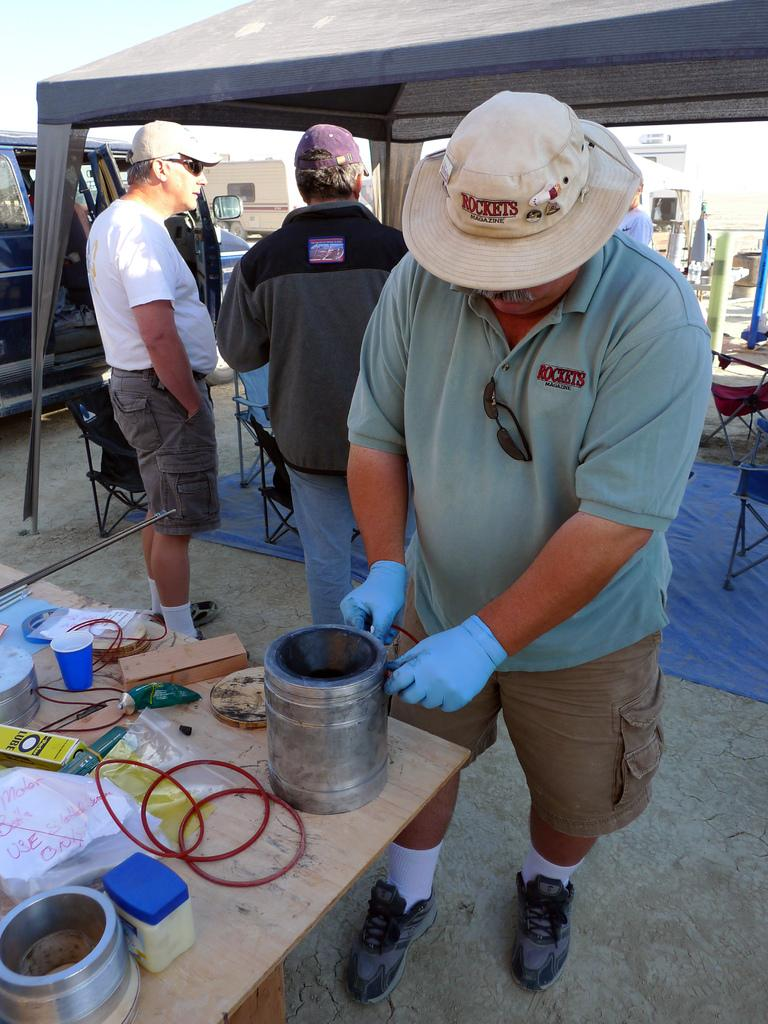Hat: (400, 84, 644, 288), (126, 114, 219, 168), (296, 122, 359, 166)
